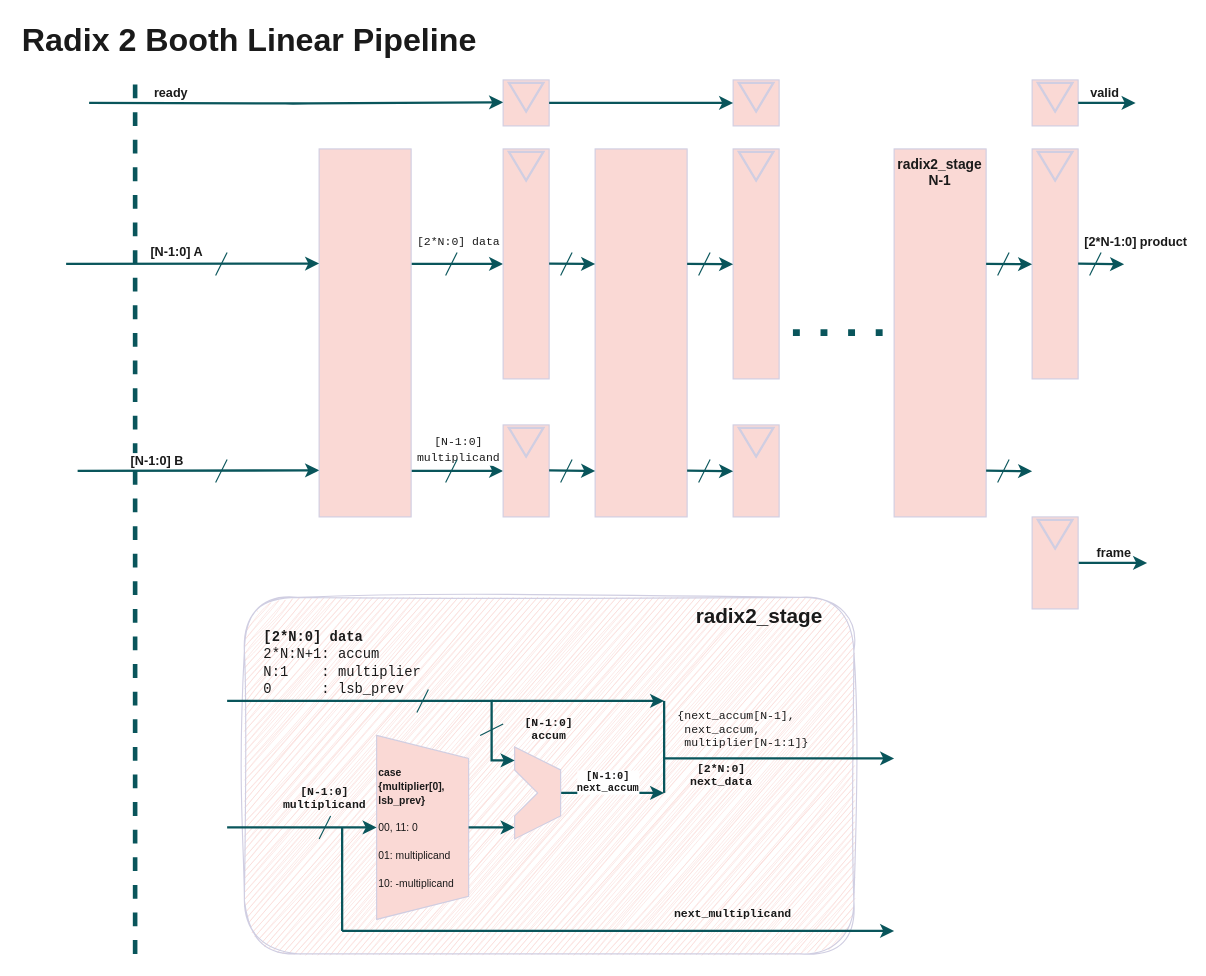
This 1206x976 diagram has some shape labels left out. The shapes that lost their labels are listed below. From the top down, each one's centre as x and y in pixels, then its label:
pixel 364 332: radix2_stage 0
pixel 640 332: radix2_stage 1
